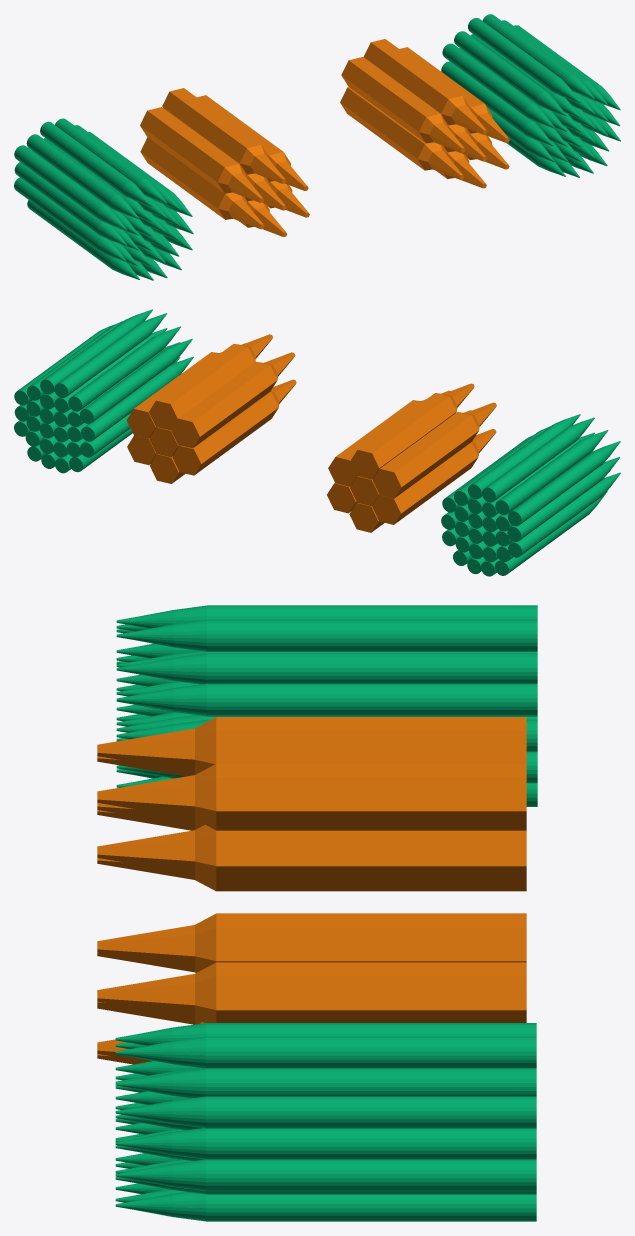
The model's file is helicopter_ballchild.glb.
3 views of the same model, one above another, from view 1: azimuth 30°, elevation 25°; view 2: azimuth 150°, elevation 25°; view 3: azimuth 270°, elevation 25° (orthographic). The views are drawn at different scales.
Visible parts, largest first — view 1: missless.001; view 2: missless.001; view 3: missless.001.
Boxes of the visible parts, bbox=[...] form: missless.001: bbox=[14, 14, 620, 280]; missless.001: bbox=[14, 309, 620, 576]; missless.001: bbox=[97, 605, 537, 1221].
Bounding box in the file's own units: 9.67 × 1.69 × 3.63.
